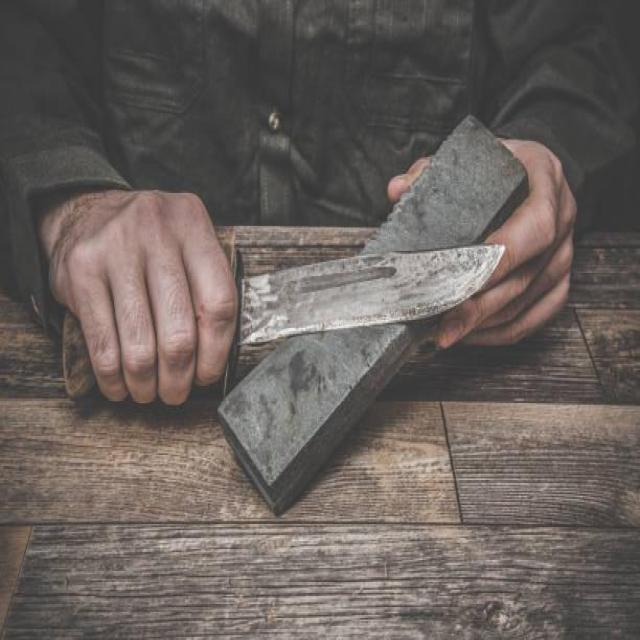faca: (19, 180, 508, 380)
